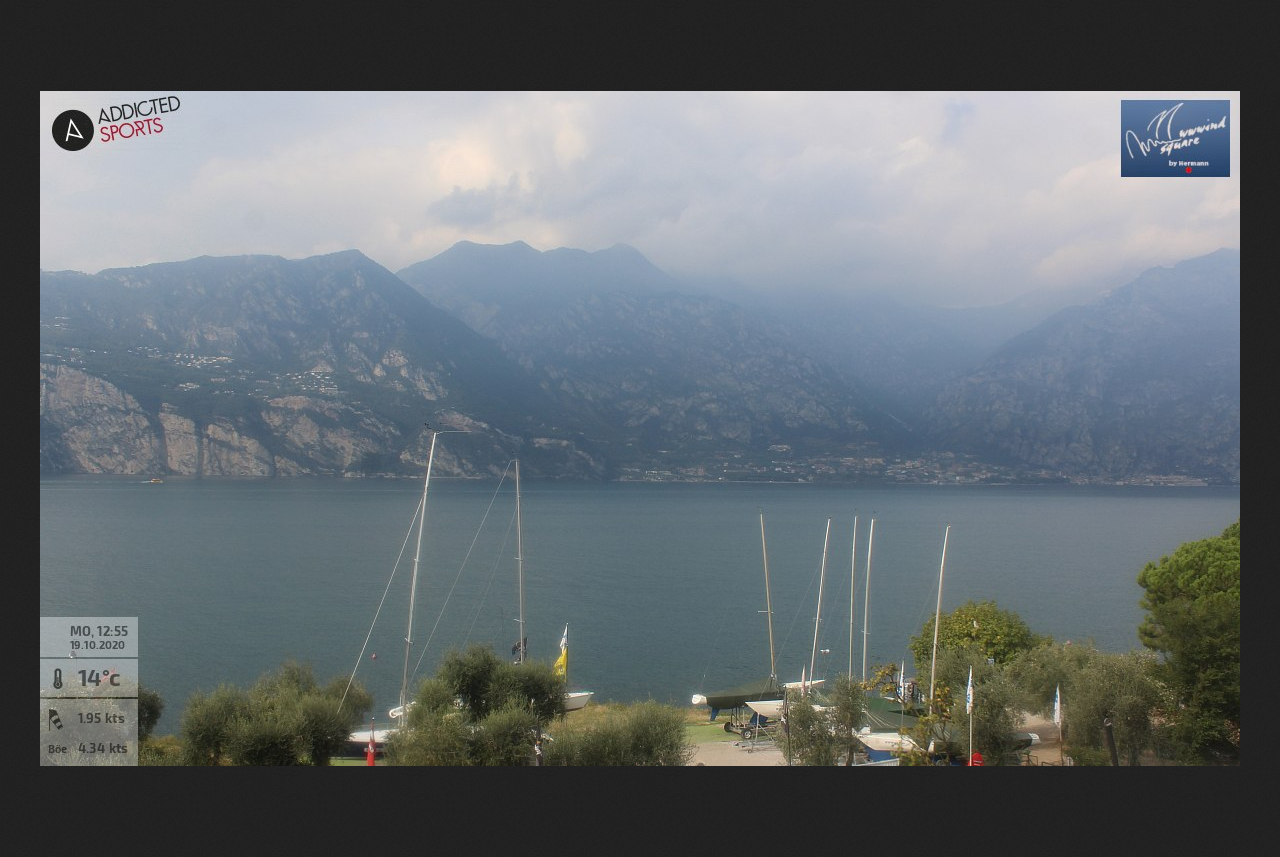no: (963, 661, 980, 715), (549, 647, 567, 678), (556, 618, 574, 648)
